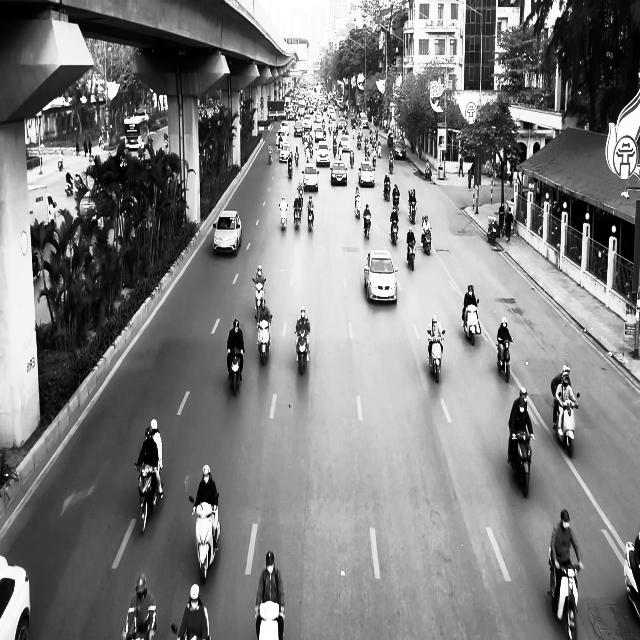bus: (124, 113, 150, 151)
car: (0, 554, 31, 639), (364, 249, 398, 303), (213, 209, 242, 254), (302, 162, 319, 191), (330, 161, 348, 186), (359, 160, 375, 187), (316, 140, 331, 166), (393, 139, 407, 159), (339, 135, 351, 152)
motorbike: (548, 549, 584, 639), (189, 493, 220, 584), (135, 462, 163, 535), (508, 430, 534, 497), (554, 391, 580, 458), (427, 329, 446, 383), (256, 314, 273, 365), (463, 300, 481, 346), (228, 348, 245, 396), (497, 337, 514, 382), (296, 330, 310, 375), (253, 276, 266, 318), (487, 217, 498, 244), (407, 240, 416, 270), (422, 228, 432, 255), (390, 218, 399, 245), (293, 204, 302, 229), (280, 204, 288, 230), (408, 199, 416, 224), (363, 216, 371, 239), (308, 203, 314, 231), (384, 182, 391, 201), (355, 198, 361, 218)
